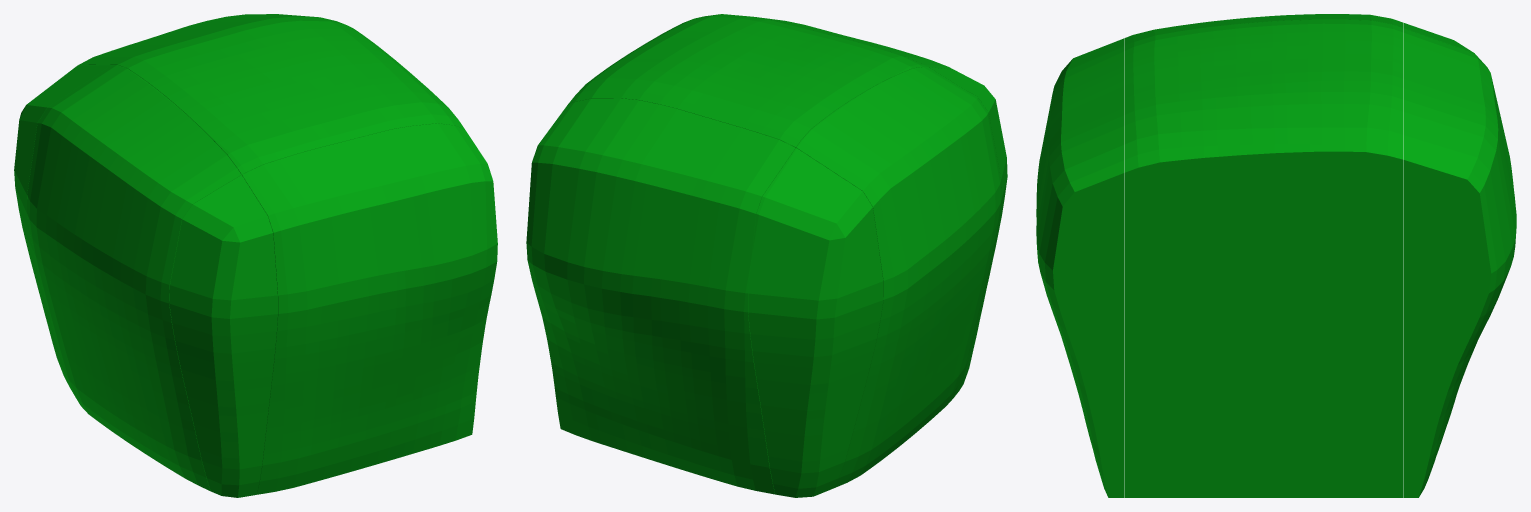
The model's file is 4by10beveledsubdivided.012.fbx.
The picture shows the model from 3 angles, left to right: view 1: azimuth 30°, elevation 25°; view 2: azimuth 150°, elevation 25°; view 3: azimuth 270°, elevation 25°; orthographic projection. The views are drawn at different scales.
Parts seen in each view (by area): view 1: 4by10beveledsubdivided.012; view 2: 4by10beveledsubdivided.012; view 3: 4by10beveledsubdivided.012.
Boxes of the visible parts, x1,y1,x2,y2 form: 4by10beveledsubdivided.012: (14, 14, 497, 497); 4by10beveledsubdivided.012: (526, 14, 1007, 497); 4by10beveledsubdivided.012: (1036, 14, 1516, 497).
Size of the model in its own units: 284 by 293 by 344.
